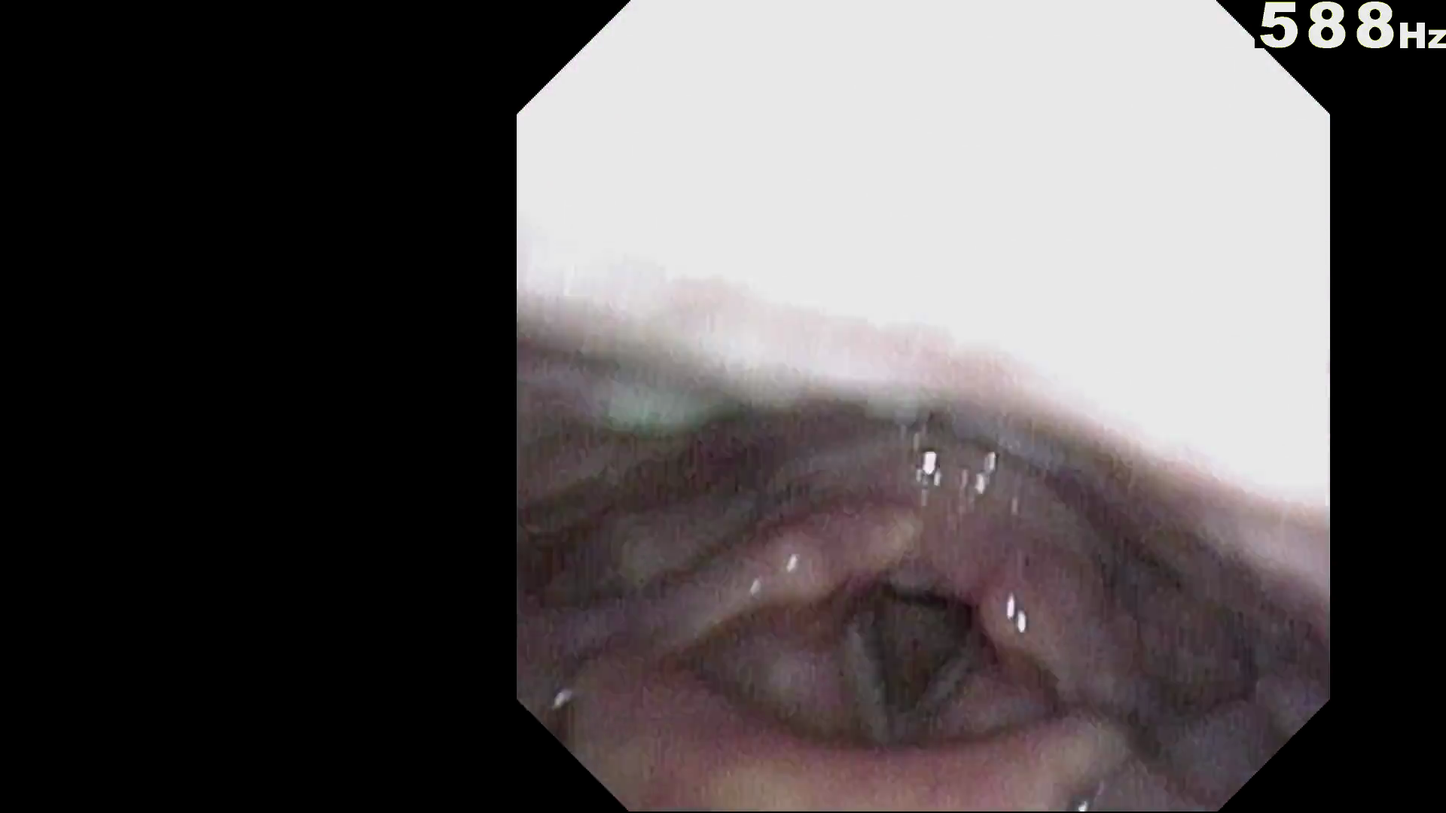trachea: (863, 549, 988, 702)
